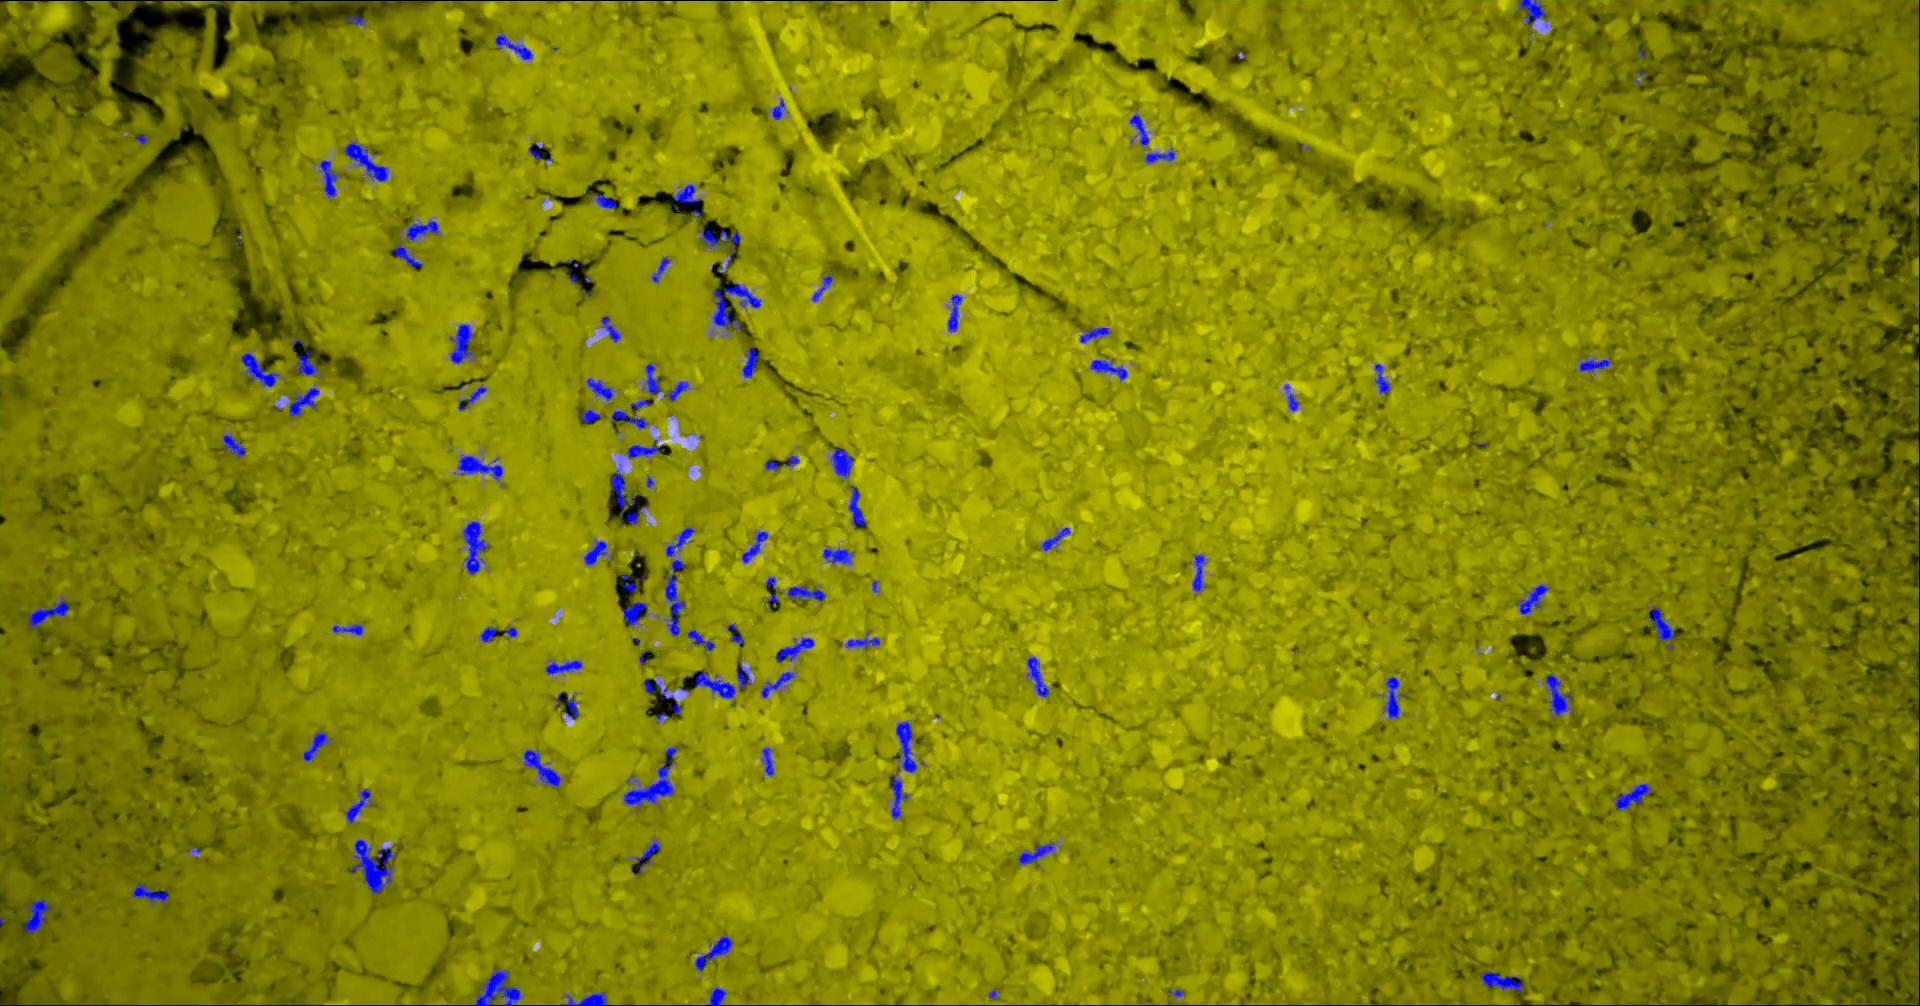ant: (664, 527, 695, 636), (623, 746, 677, 807), (712, 283, 759, 332), (474, 967, 521, 1005), (343, 142, 389, 180), (682, 669, 735, 699), (27, 594, 69, 629), (462, 521, 489, 574), (523, 749, 560, 788), (643, 678, 681, 714), (240, 352, 279, 386), (610, 464, 639, 508), (695, 936, 731, 970), (457, 453, 502, 480), (894, 721, 917, 772), (1545, 673, 1572, 716), (1646, 608, 1674, 649), (494, 30, 532, 58), (630, 838, 660, 873), (23, 898, 53, 932), (698, 227, 740, 251), (288, 384, 319, 417), (775, 636, 814, 662), (759, 671, 795, 699), (1614, 782, 1651, 809), (1516, 584, 1549, 614), (450, 323, 472, 363), (1026, 655, 1049, 696), (888, 774, 908, 819), (1017, 842, 1055, 866), (1383, 676, 1404, 718), (345, 788, 371, 823), (1479, 970, 1523, 991), (319, 159, 342, 197), (302, 730, 330, 761), (1090, 358, 1128, 380), (742, 531, 767, 563), (405, 217, 439, 240), (131, 883, 168, 903), (457, 385, 486, 410), (1039, 527, 1069, 551), (610, 410, 648, 429), (394, 244, 422, 269), (626, 439, 663, 459), (848, 485, 865, 527), (1517, 0, 1545, 24), (559, 991, 607, 1005), (585, 377, 615, 400), (643, 362, 663, 394), (583, 539, 607, 565), (830, 448, 852, 478), (1129, 113, 1148, 146), (622, 601, 648, 625), (670, 183, 700, 203), (295, 351, 319, 375), (947, 293, 963, 332), (787, 586, 825, 601), (543, 659, 582, 674), (687, 629, 714, 650), (822, 545, 853, 563), (222, 434, 245, 459), (663, 380, 688, 401), (811, 274, 832, 301), (764, 455, 799, 470), (844, 631, 879, 647), (599, 315, 620, 340), (1191, 554, 1205, 591), (651, 257, 670, 282), (1079, 326, 1111, 342), (1374, 363, 1390, 392), (1283, 384, 1299, 412), (742, 348, 757, 377), (1578, 358, 1611, 371), (726, 622, 744, 645), (331, 622, 363, 635), (764, 575, 778, 603), (1144, 150, 1175, 163), (593, 192, 616, 208), (737, 663, 750, 688), (761, 747, 773, 775), (707, 986, 725, 1005), (579, 408, 601, 423), (565, 694, 578, 719), (621, 574, 635, 597), (771, 98, 783, 119), (479, 626, 497, 641), (618, 511, 637, 525), (528, 142, 542, 159), (345, 14, 364, 25), (630, 399, 650, 409), (288, 0, 434, 1), (107, 0, 163, 1)
